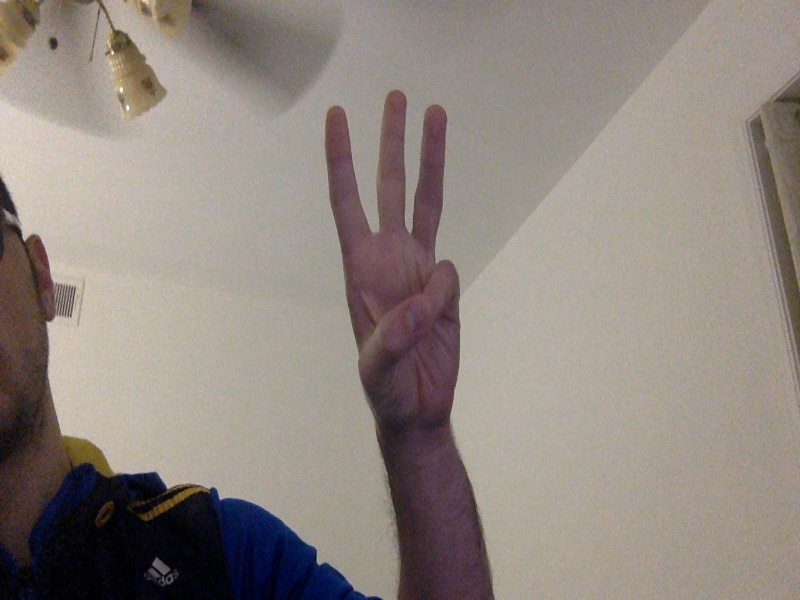3-hand: (324, 91, 463, 430)
